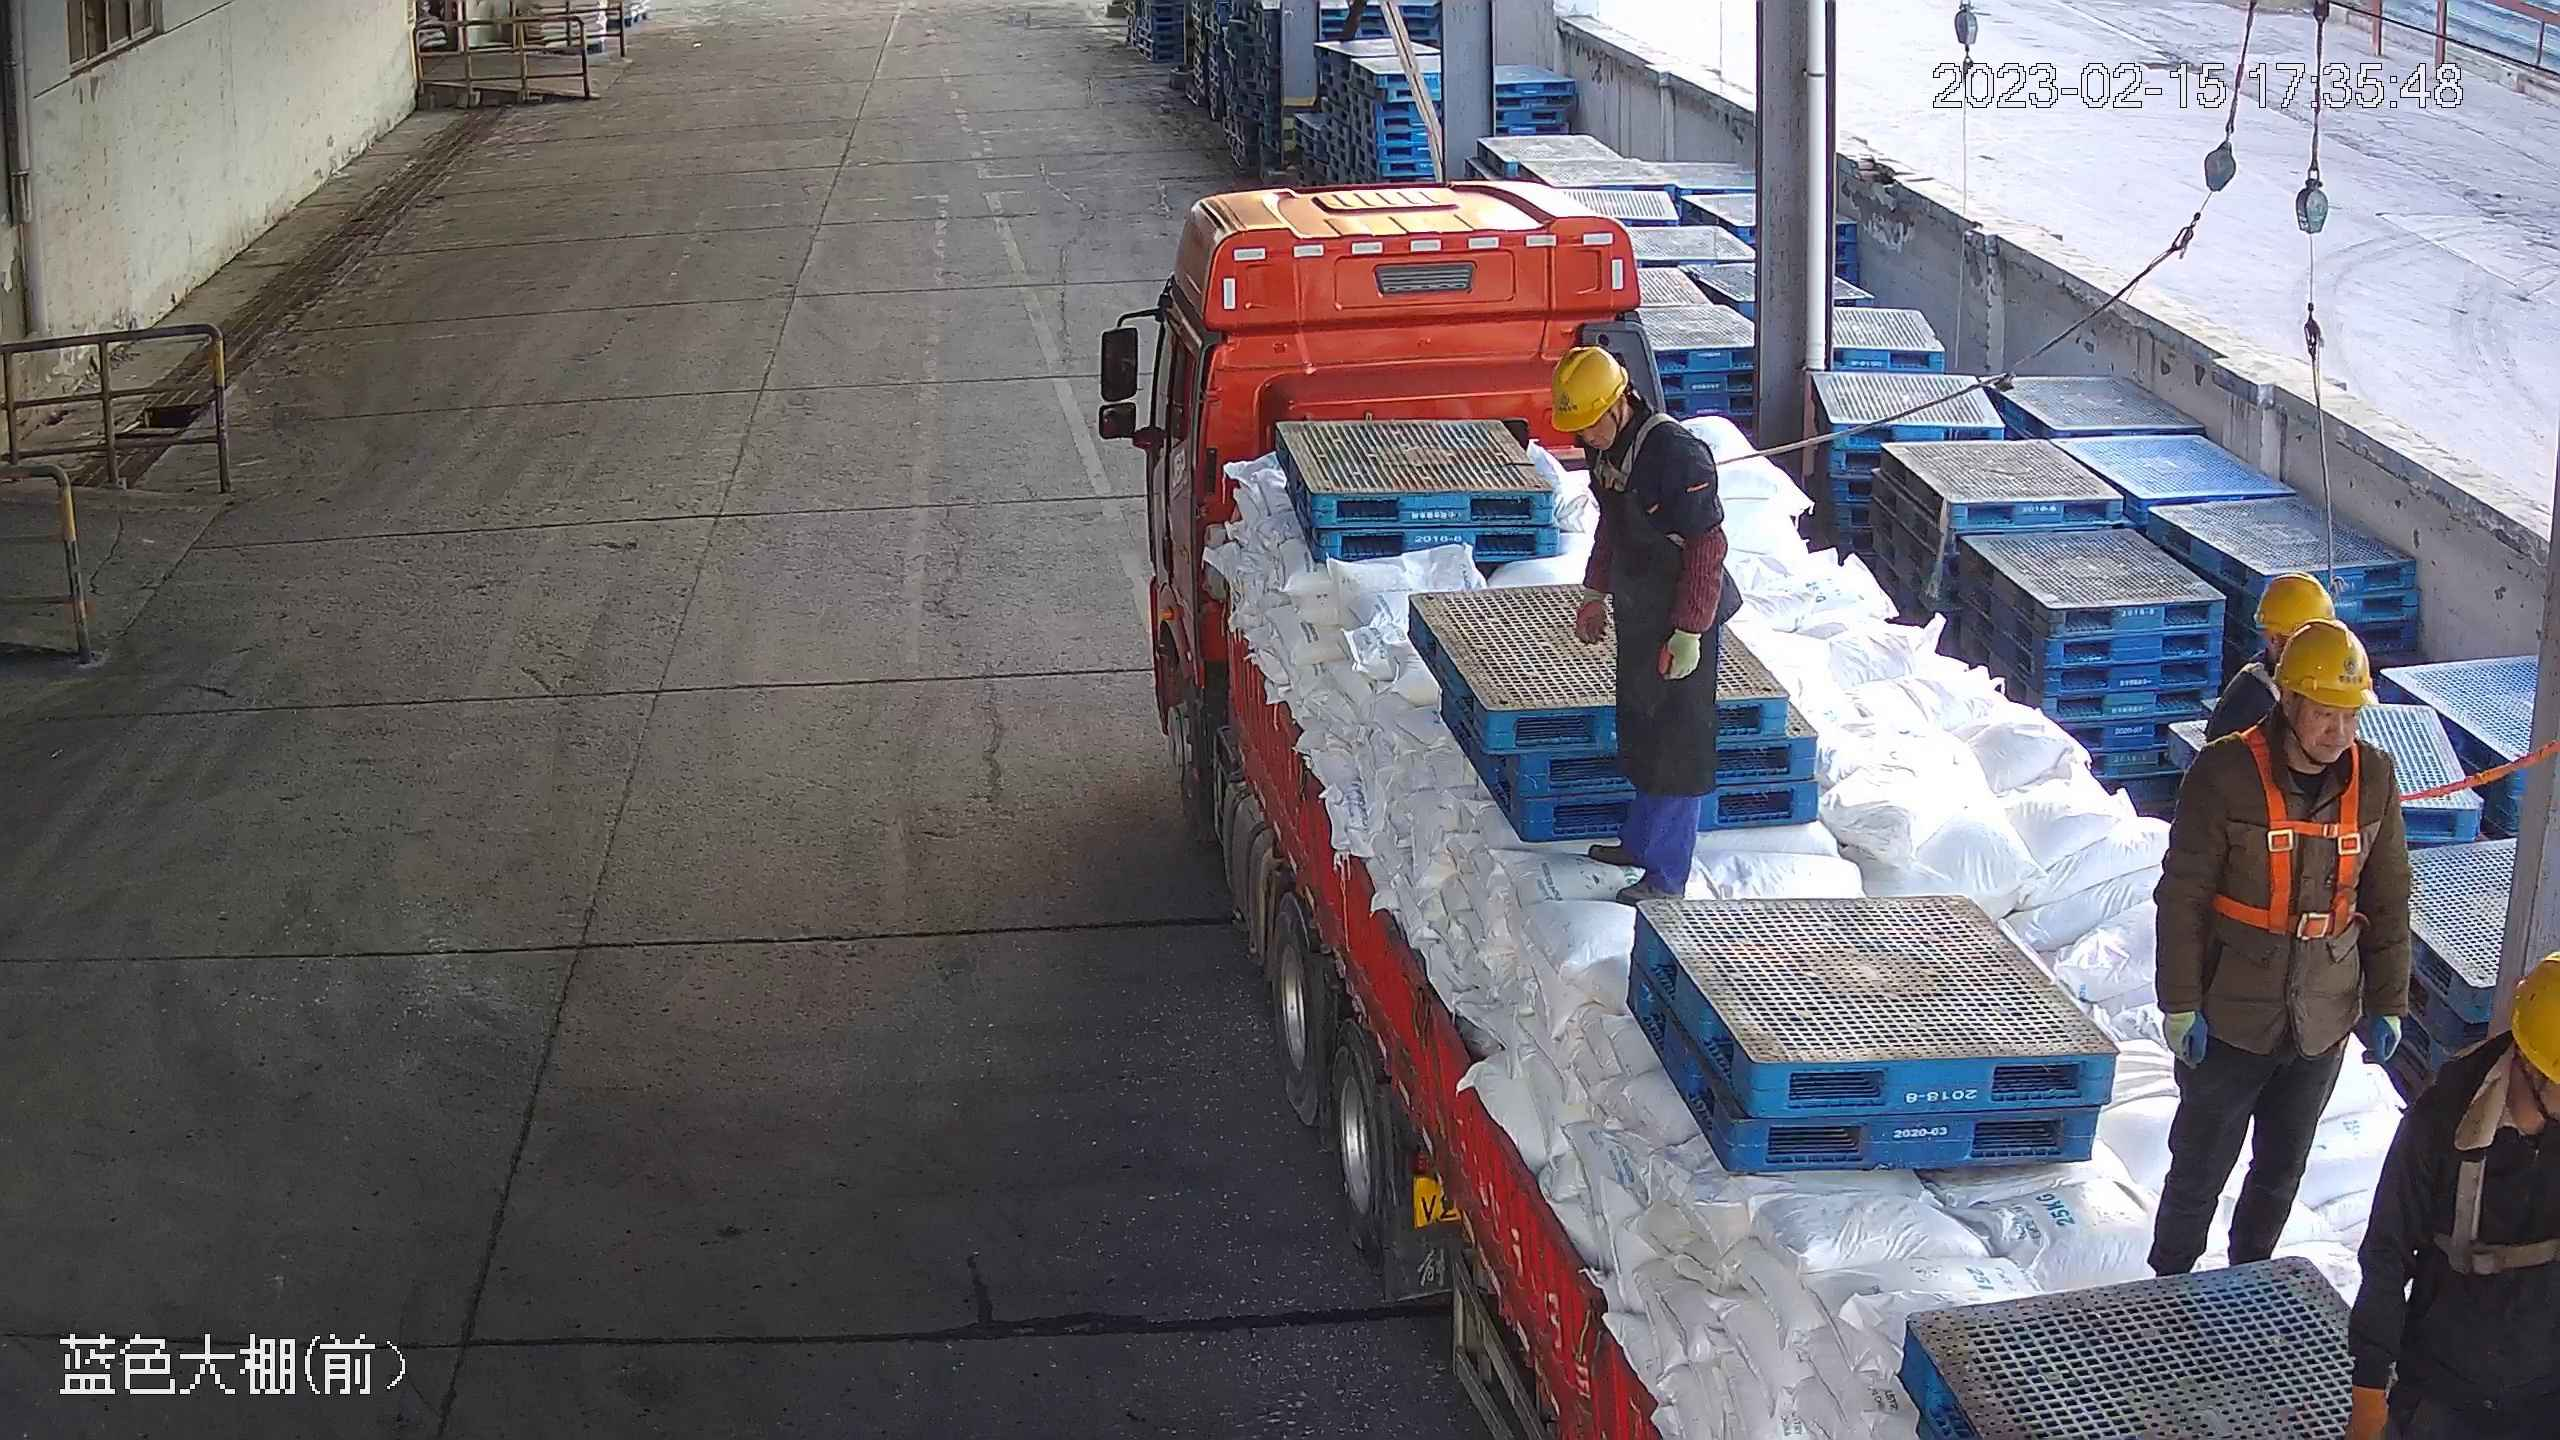belt: (2211, 722, 2366, 950), (1591, 413, 1691, 494)
head: (2364, 946, 2560, 1293), (2174, 615, 2406, 880), (1549, 346, 1717, 525)
helmet: (2270, 617, 2378, 707), (2506, 952, 2560, 1086), (1551, 344, 1629, 433), (2251, 570, 2337, 629)
people: (2147, 614, 2412, 1279), (1547, 344, 1747, 913)
truck: (1093, 172, 2560, 1440)
